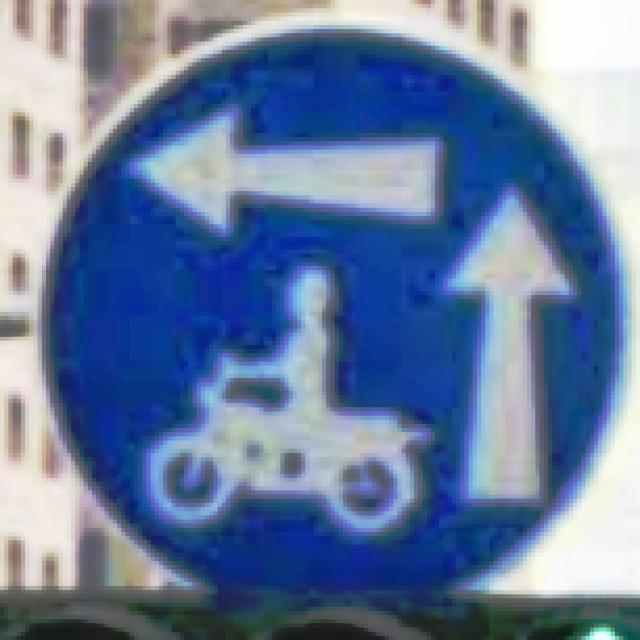twostageturn: (33, 12, 636, 602)
